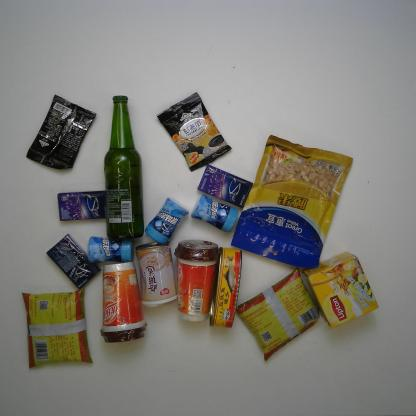Alcohol: (101, 93, 144, 244)
Canned Food: (134, 238, 180, 310), (206, 244, 243, 330)
Dried Fruit: (230, 132, 358, 272)
Gum: (43, 232, 104, 293), (192, 162, 259, 210), (189, 193, 239, 237), (144, 198, 186, 246), (55, 186, 107, 221), (85, 235, 135, 266)
Instant Drink: (156, 85, 235, 175), (300, 249, 379, 333), (25, 91, 96, 174), (171, 236, 221, 325), (98, 261, 149, 343)
Seasoner: (233, 264, 327, 364), (18, 288, 94, 370)
